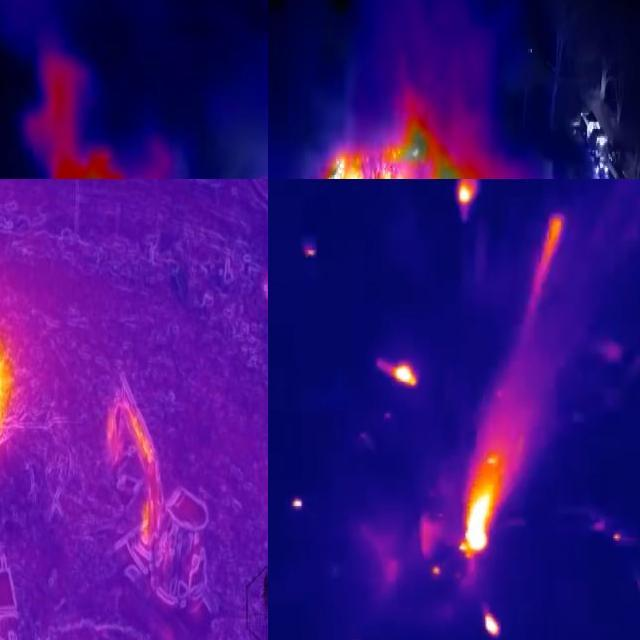fire: (269, 116, 604, 180), (455, 447, 501, 561), (379, 355, 421, 391), (455, 180, 477, 215), (483, 610, 506, 640)
